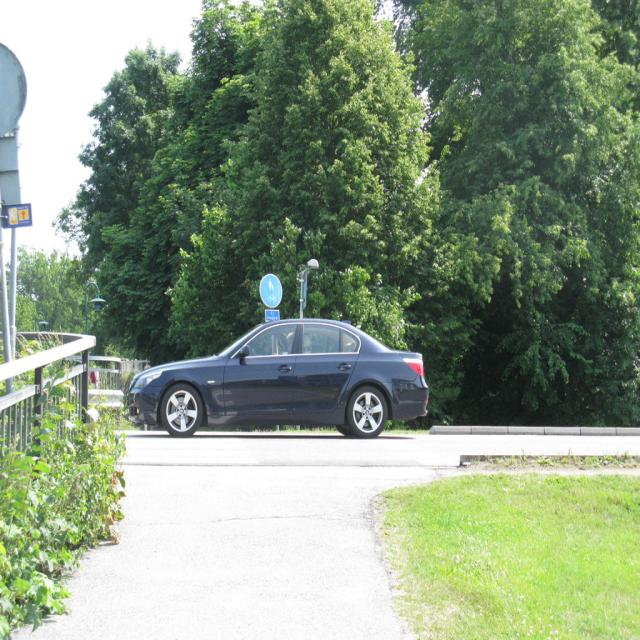car: (123, 313, 428, 438)
